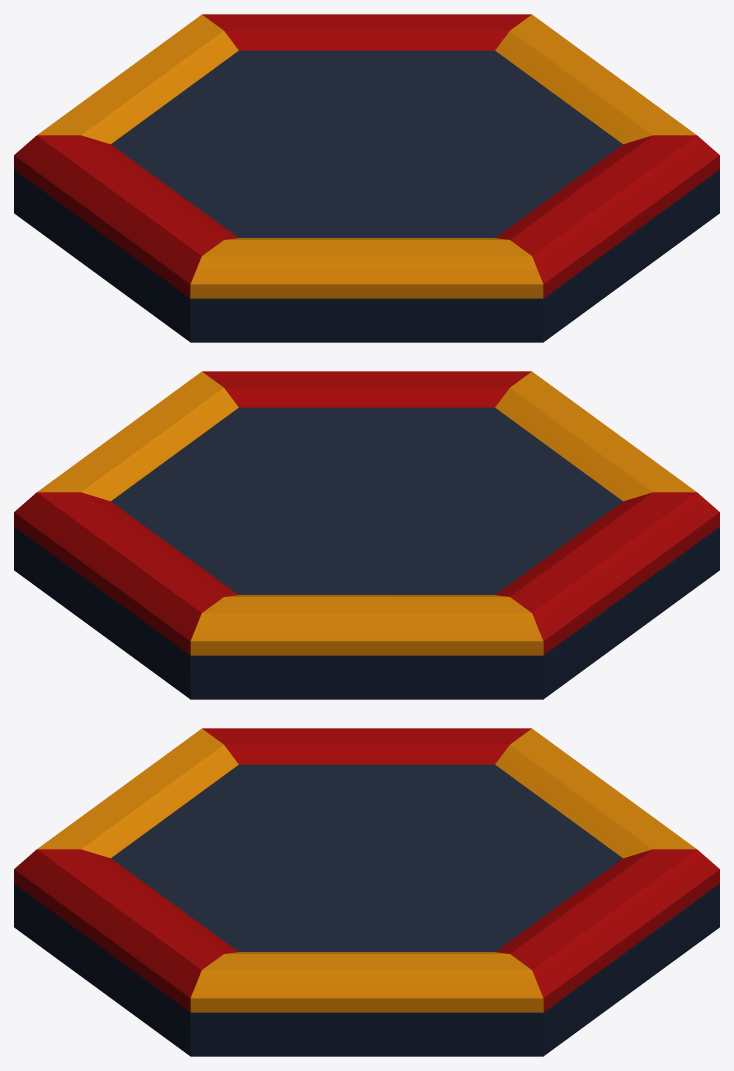
Rendered from Hexagon 05.FBX.
3 renders of one model, top to bottom at view 1: azimuth 30°, elevation 25°; view 2: azimuth 150°, elevation 25°; view 3: azimuth 270°, elevation 25°, orthographic.
Parts seen in each view (by area): view 1: Hexagon 05; view 2: Hexagon 05; view 3: Hexagon 05.
Part boxes in pixels (x1=…): Hexagon 05: x1=14, y1=14, x2=719, y2=342; Hexagon 05: x1=14, y1=371, x2=719, y2=699; Hexagon 05: x1=14, y1=728, x2=719, y2=1056.
Bounding box in the file's own units: 280 × 39.42 × 323.
1 material, 1 textured.
